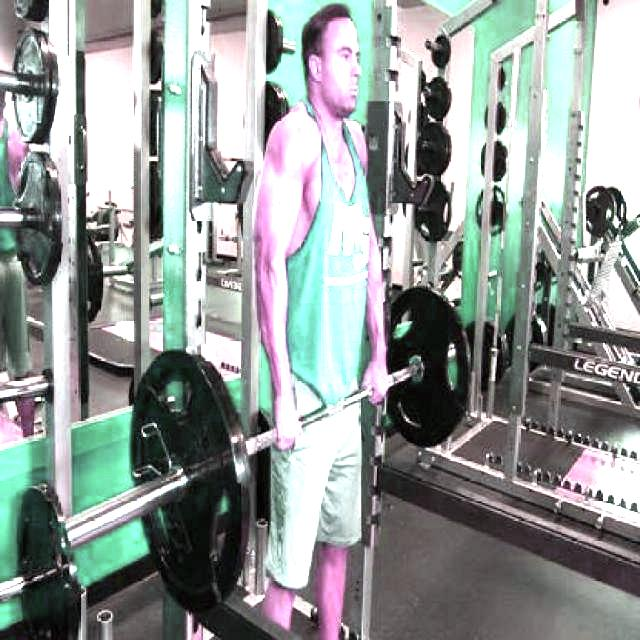barbell: (55, 347, 253, 620)
